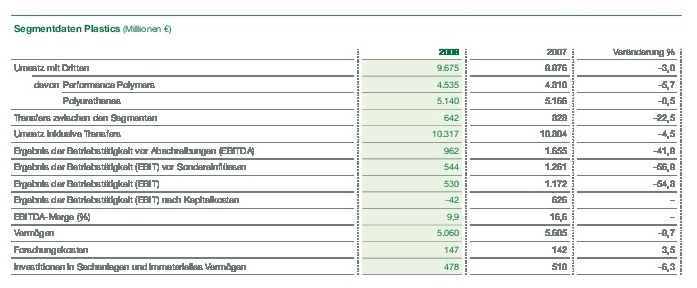table: (0, 0, 697, 288)
